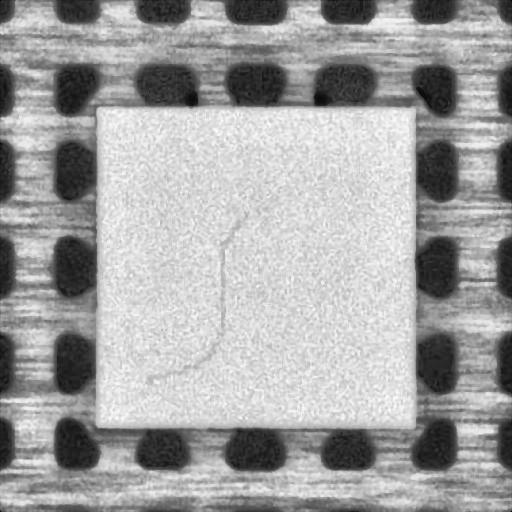DIE_CRACK: (145, 206, 251, 381)
